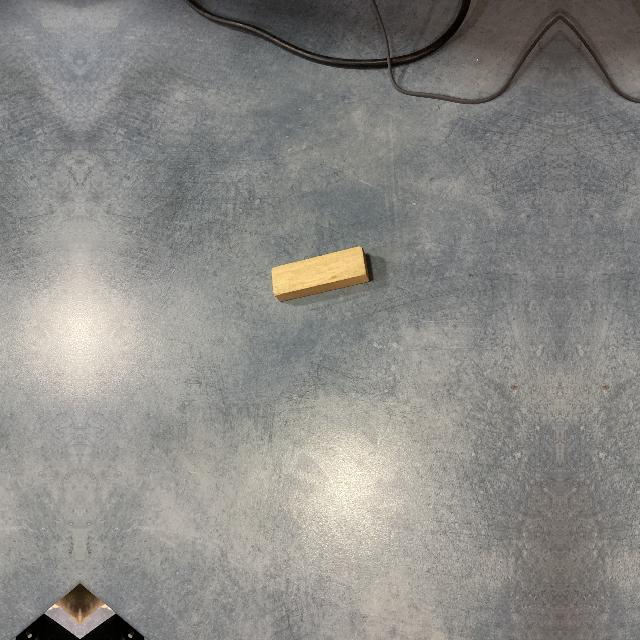jenga: (271, 247, 373, 304)
